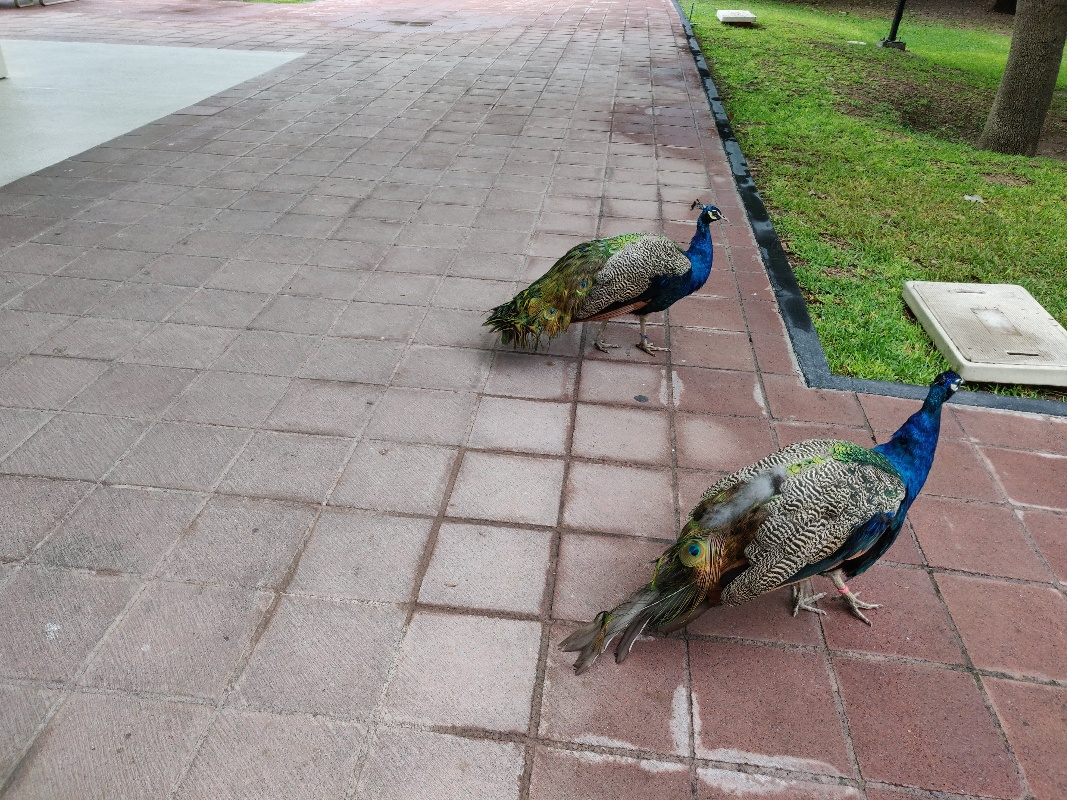pavoreal: (691, 368, 970, 664), (503, 196, 730, 361)
